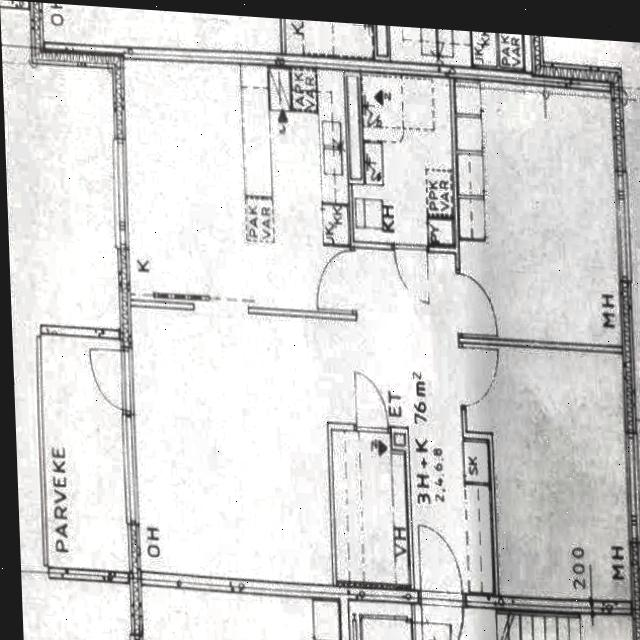room: (116, 308, 361, 585), (124, 54, 351, 318), (453, 74, 620, 349), (464, 338, 631, 607), (354, 244, 462, 434), (348, 71, 455, 251), (409, 424, 492, 595), (332, 428, 409, 586)
